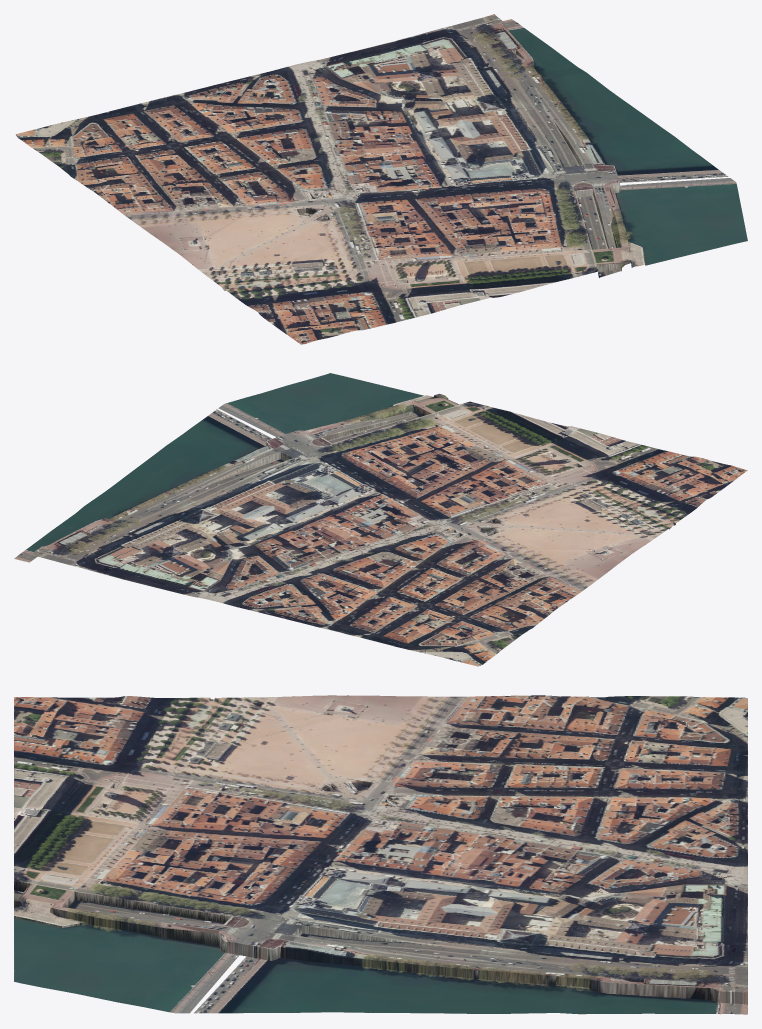
The model's file is gml_198275d7-1842-4ff1-abc3-123f14b587d4.gltf.
3 views of the same model, one above another, from view 1: azimuth 30°, elevation 25°; view 2: azimuth 150°, elevation 25°; view 3: azimuth 270°, elevation 25° (orthographic). The views are drawn at different scales.
Visible parts, largest first — view 1: Z_UP; view 2: Z_UP; view 3: Z_UP.
Part boxes in pixels (x1=…): Z_UP: x1=16, y1=14, x2=747, y2=344; Z_UP: x1=14, y1=373, x2=747, y2=666; Z_UP: x1=14, y1=695, x2=747, y2=1014.
Bounding box in the file's own units: 500 × 11.72 × 500.
Materials: 1 (1 with a texture image).
